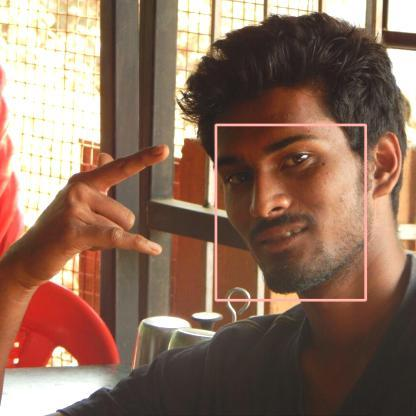without_mask: (216, 125, 365, 300)
